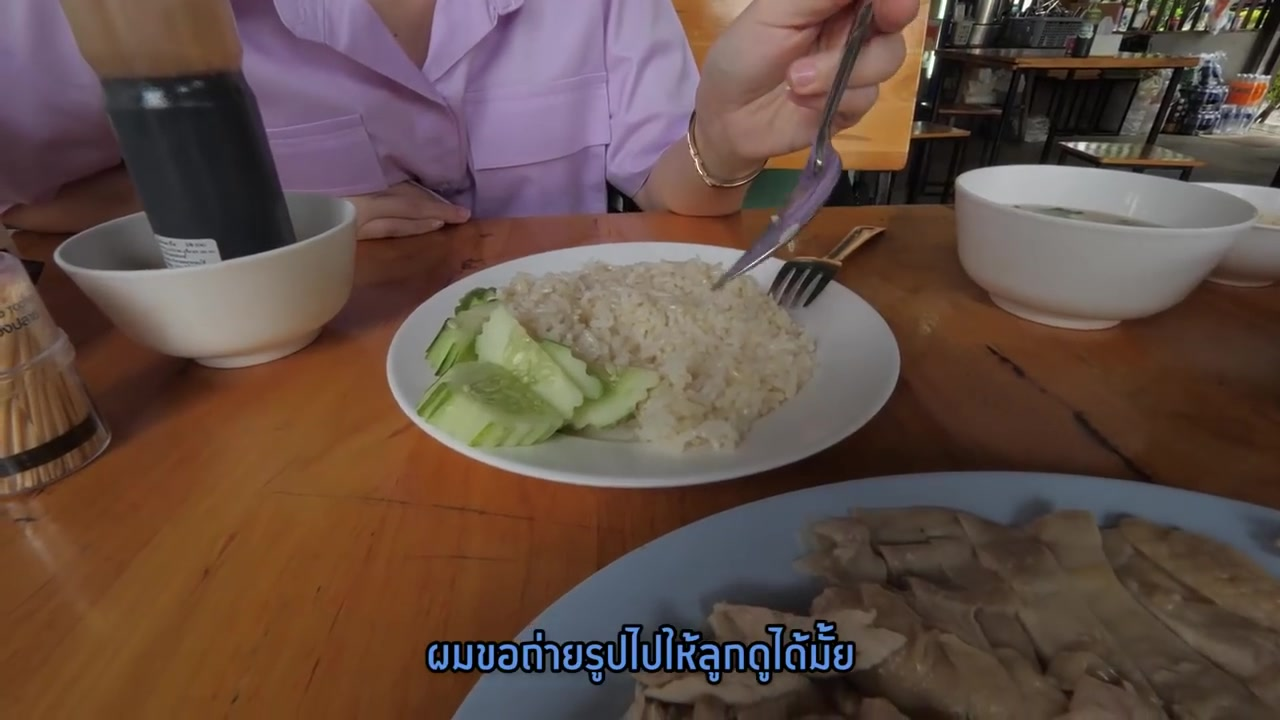text-label: (423, 617, 862, 688)
